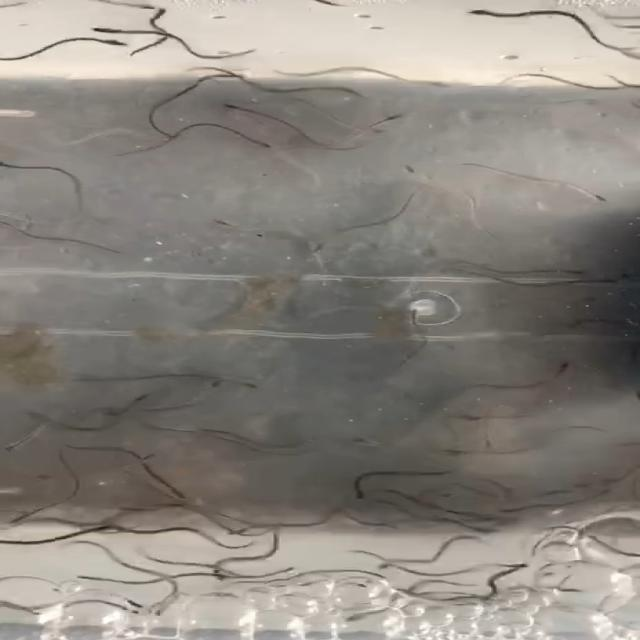active_glass_eel: (188, 365, 252, 398), (448, 514, 506, 544), (237, 369, 302, 392), (207, 215, 271, 236), (0, 428, 45, 457), (149, 480, 198, 506), (440, 404, 496, 426), (568, 187, 619, 211), (1, 509, 57, 530), (458, 5, 526, 22), (125, 126, 177, 148), (224, 516, 265, 542), (127, 450, 173, 473), (377, 67, 422, 89), (393, 160, 438, 182), (390, 305, 438, 325), (378, 555, 418, 579), (497, 554, 537, 578), (544, 259, 595, 277), (124, 520, 173, 538), (590, 268, 625, 293), (88, 33, 136, 51), (486, 501, 522, 525), (346, 434, 379, 459), (124, 14, 187, 27), (220, 102, 263, 121), (369, 112, 420, 128), (240, 132, 275, 155), (334, 80, 370, 102), (89, 21, 129, 40), (0, 158, 32, 181), (340, 606, 376, 626), (340, 480, 371, 503), (468, 434, 505, 453), (546, 361, 585, 379), (207, 564, 243, 583), (212, 66, 254, 82), (551, 580, 588, 598), (308, 240, 347, 257), (76, 523, 120, 538), (442, 442, 473, 461), (266, 544, 318, 555), (120, 607, 163, 620), (68, 572, 107, 586), (114, 501, 146, 516), (539, 488, 578, 500), (372, 520, 404, 534), (556, 322, 584, 336)
